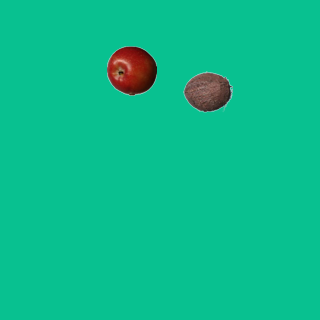Apple Braeburn: (106, 45, 156, 95)
Cocos: (182, 66, 232, 116)
